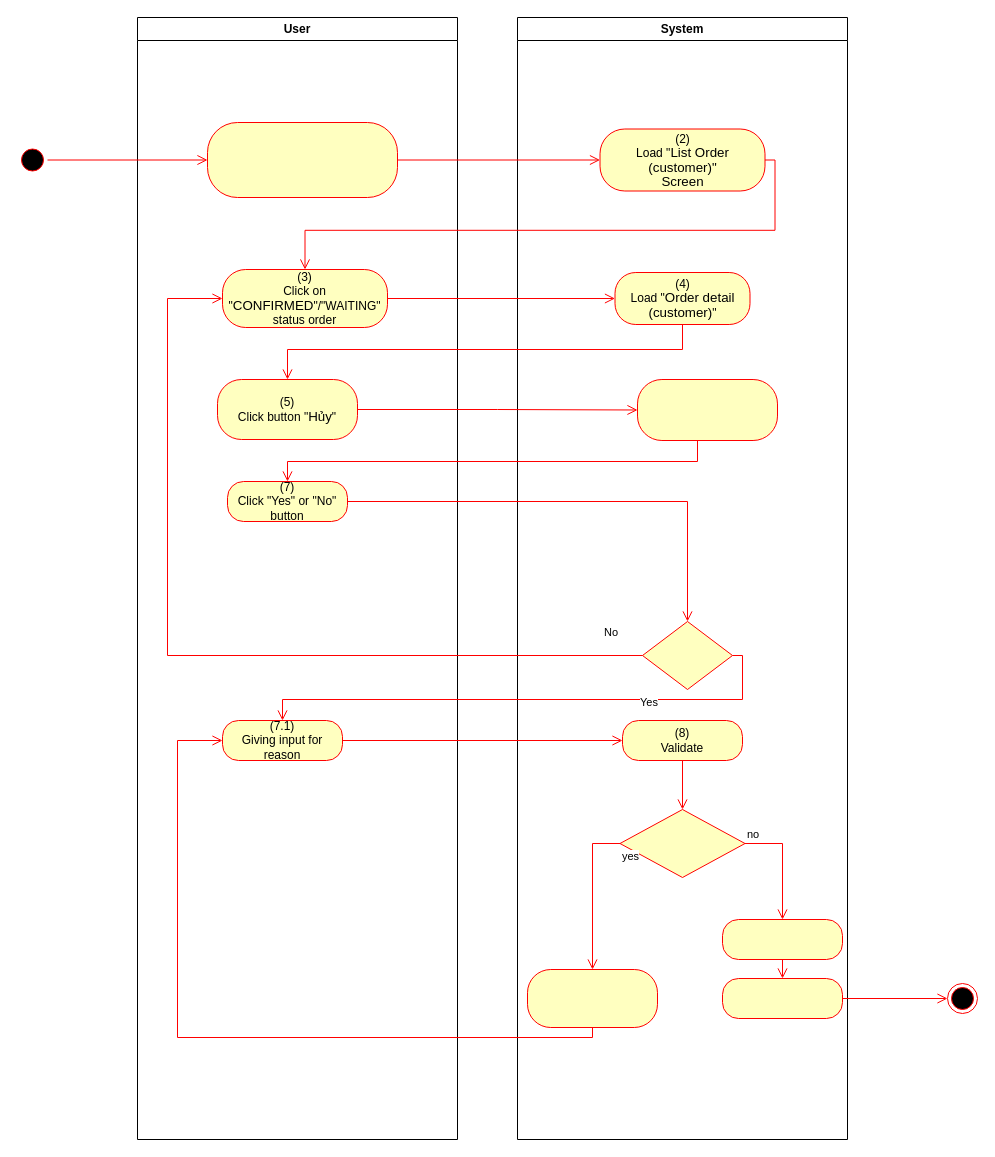
Image size: 995x1157. Some labels were removed from this diagram. The centre of each missing label's shape, as x and y in pixels:
(1) On "left menu" click " Order Management ": pixel 302 160
(6) Load " Yes/No dialog": pixel 707 409
(8.1) Receive MSG: pixel 592 998
(8.2) Update status order: pixel 782 939
(9) Update UI: pixel 782 998
